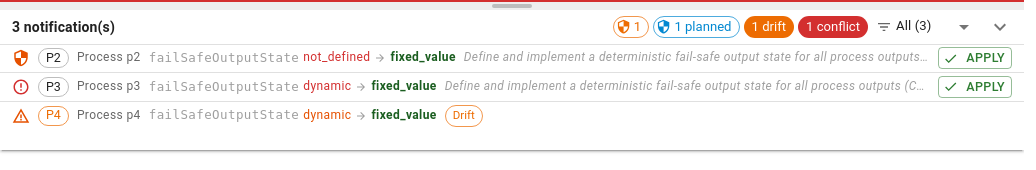
DFD notification panel — closed loop by mitigation status › the planned chip shows the planned SHOULD, without Apply (the DFD shows the system as it is — user 2026-10-30)
Click the button with test id "dfd-notification-planned-toggle" at (696, 27), box [653, 16, 740, 38]
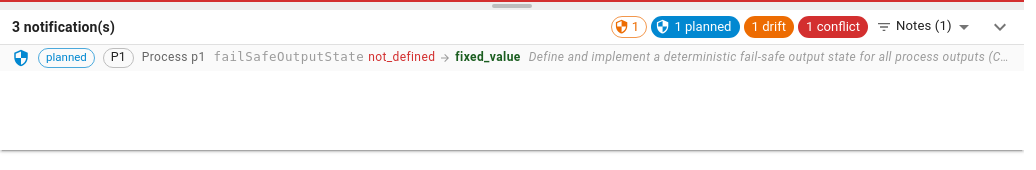
Result: the text "P1" is shown once at [111, 49, 126, 64]
Result: the text "planned" is shown at [46, 50, 87, 64]
Result: the text "P2" is gone
